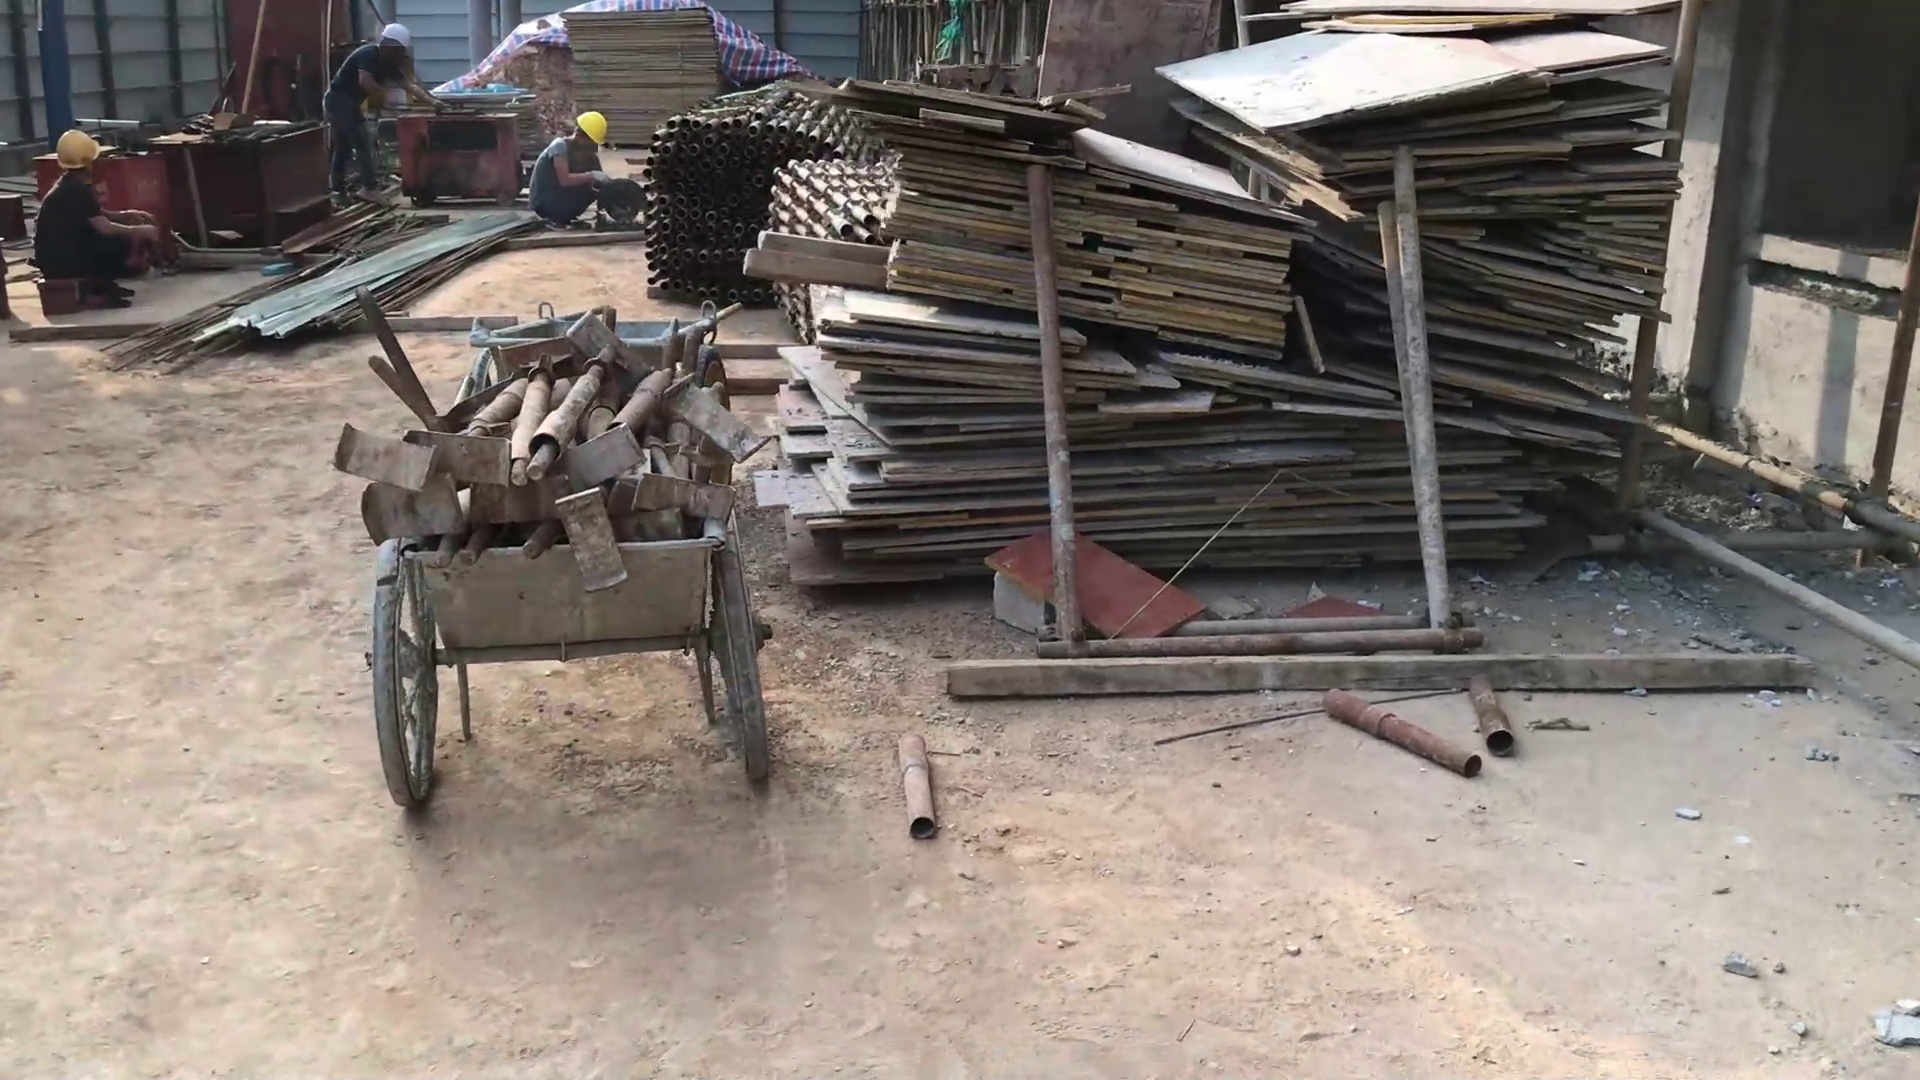board: (787, 1, 1676, 588), (560, 4, 725, 145)
cutter: (592, 171, 647, 235)
handcart: (362, 496, 778, 812), (467, 300, 746, 416)
helmet: (45, 125, 103, 173), (571, 107, 609, 149), (378, 20, 414, 52)
person: (28, 127, 162, 315), (318, 20, 454, 205), (525, 107, 616, 233)
rebar: (107, 220, 525, 367)
scaffold: (639, 80, 889, 303)
